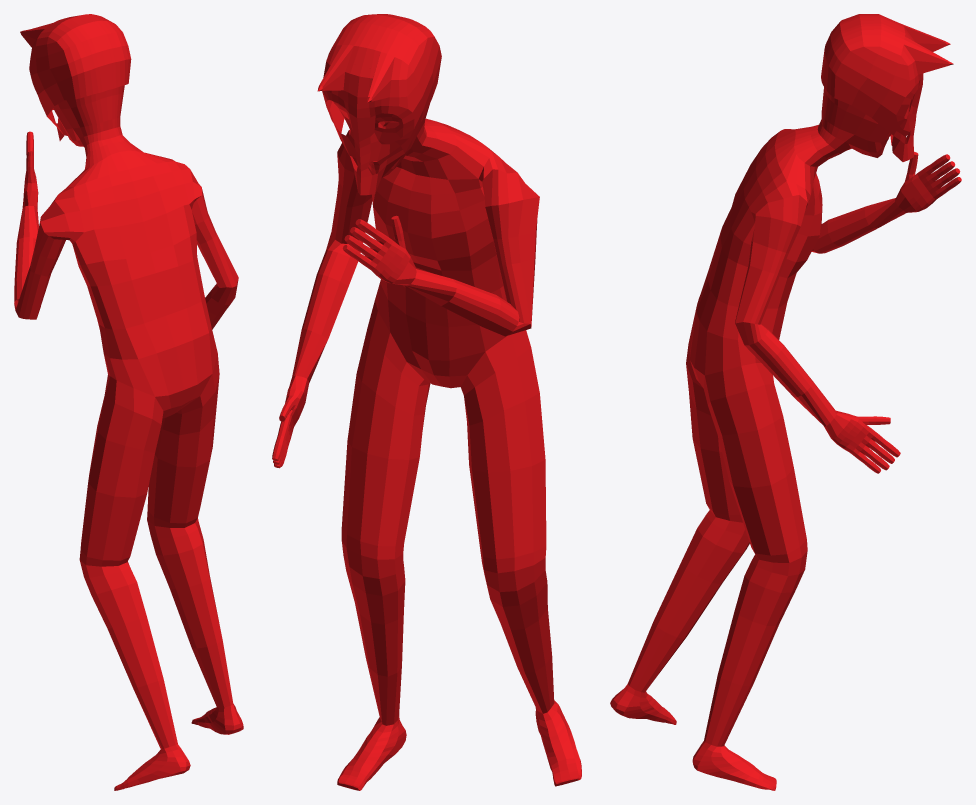
The model's file is correrE_000098.obj.
The picture shows the model from 3 angles, left to right: view 1: azimuth 30°, elevation 25°; view 2: azimuth 150°, elevation 25°; view 3: azimuth 270°, elevation 25°; orthographic projection. The views are drawn at different scales.
Parts seen in each view (by area): view 1: Plane.002_Plane.001; view 2: Plane.002_Plane.001; view 3: Plane.002_Plane.001.
Part boxes in pixels (box(x1,y1,x2,y2)): Plane.002_Plane.001: box(14, 14, 243, 790); Plane.002_Plane.001: box(272, 14, 581, 790); Plane.002_Plane.001: box(610, 14, 961, 790).
Size of the model in its own units: 2 by 6.76 by 2.95.
